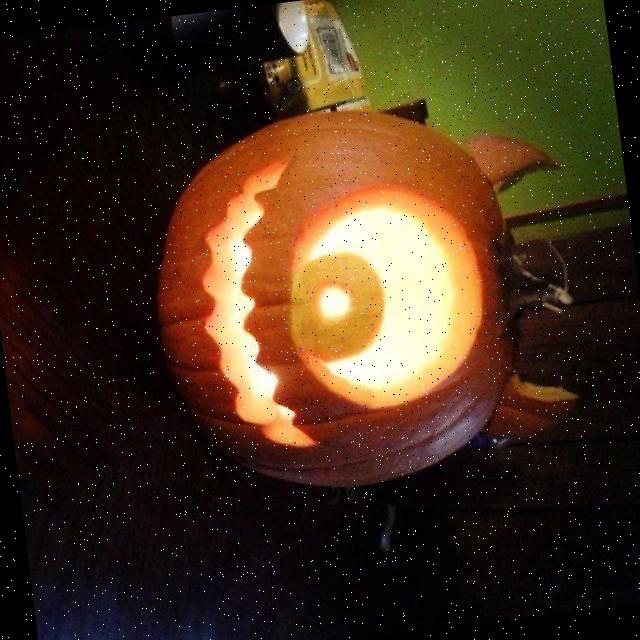pumpkin: (157, 111, 572, 486)
